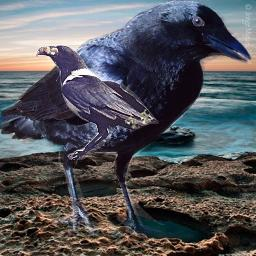Crow: (1, 0, 252, 241), (35, 44, 159, 160)
